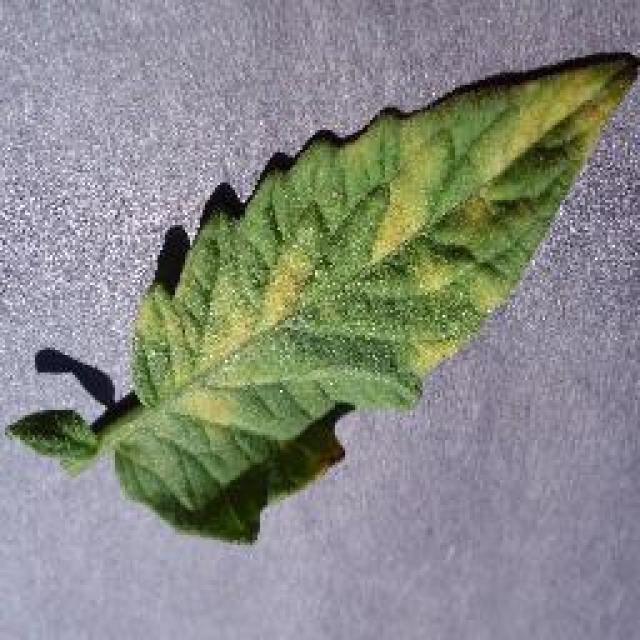Tom_Leaf_Mold: (260, 146, 515, 346)
